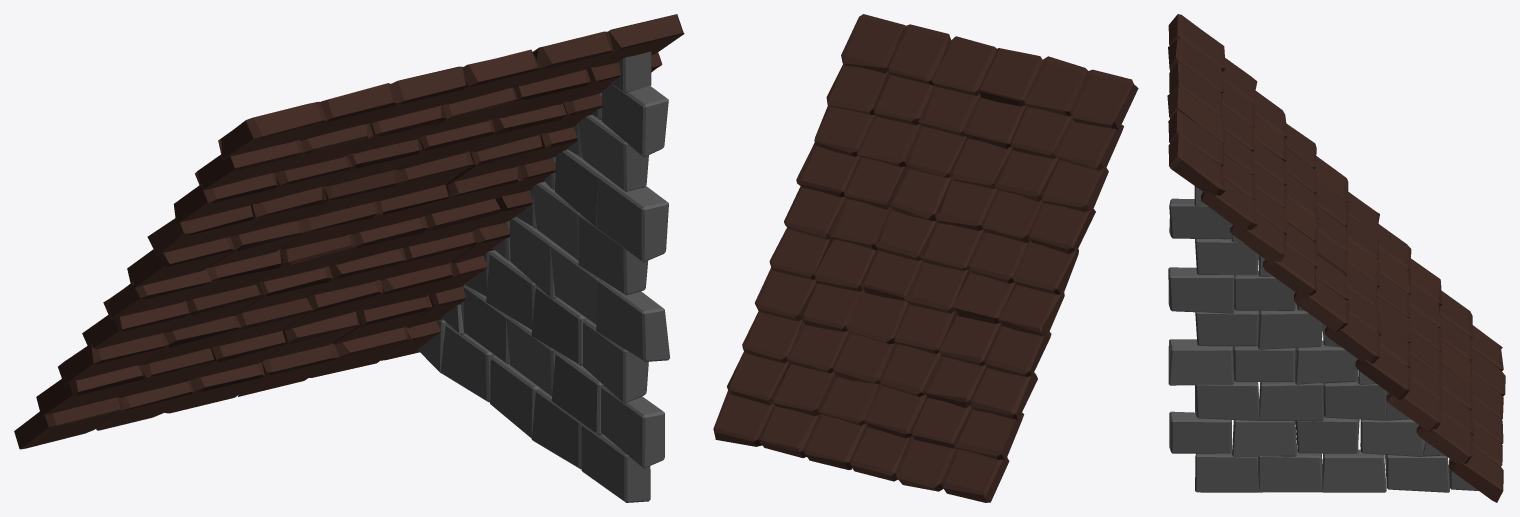
Rendered from BrickWall-Stone-Roof-Left.fbx.
3 views of the same model, side by side, from view 1: azimuth 30°, elevation 25°; view 2: azimuth 150°, elevation 25°; view 3: azimuth 270°, elevation 25° (orthographic). The views are drawn at different scales.
Parts seen in each view (by area): view 1: Cube.002, Stone Base wall.004; view 2: Cube.002; view 3: Cube.002, Stone Base wall.004.
Part boxes in pixels (x1,y1,x2,y2): Cube.002: (14, 14, 684, 449); Stone Base wall.004: (417, 51, 669, 502); Cube.002: (713, 14, 1138, 502); Cube.002: (1167, 14, 1505, 502); Stone Base wall.004: (1168, 186, 1478, 492).
Size of the model in its own units: 883 by 973 by 857.
